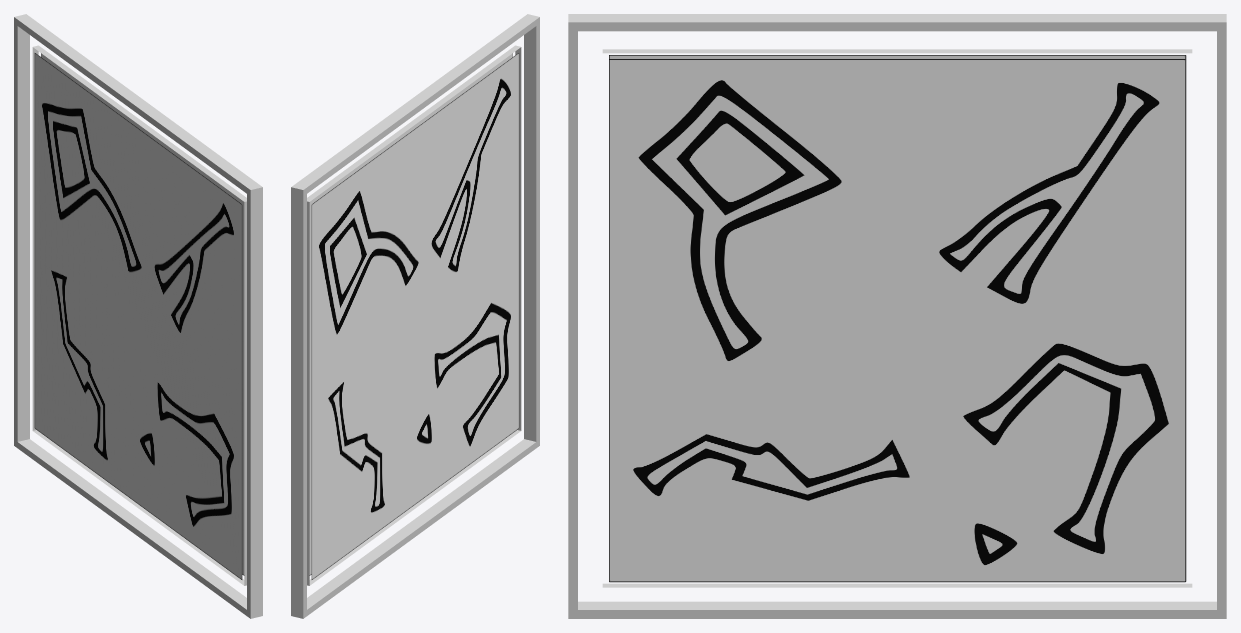
The model's file is whirlpool_buoy.dae.
The picture shows the model from 3 angles, left to right: view 1: azimuth 30°, elevation 25°; view 2: azimuth 150°, elevation 25°; view 3: azimuth 270°, elevation 25°; orthographic projection. The views are drawn at different scales.
Visible parts, largest first — view 1: Bouy; view 2: Bouy; view 3: Bouy.
Boxes of the visible parts, <box> form: Bouy: <box>14,14,262,618</box>; Bouy: <box>291,14,539,618</box>; Bouy: <box>568,14,1226,618</box>.
Bounding box in the file's own units: 0.04 × 1.34 × 1.34.
Materials: 3 (2 with a texture image).
